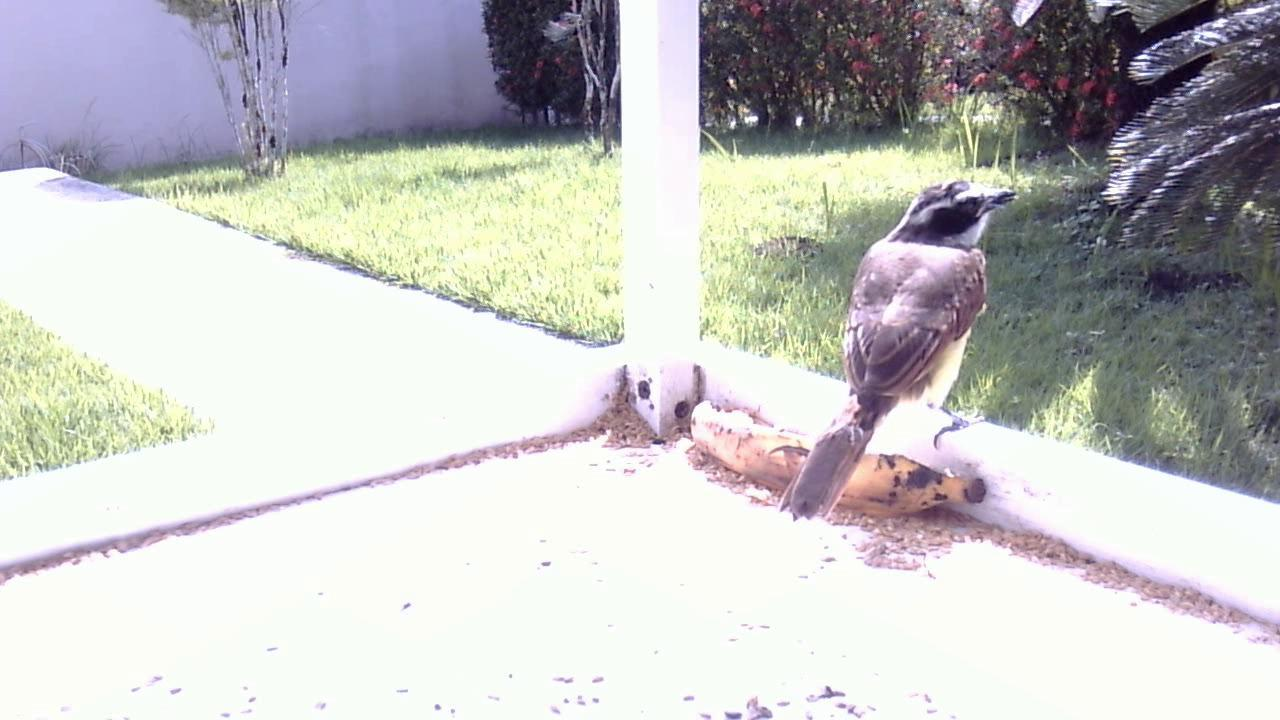bem_te_vi: (771, 170, 1020, 531)
